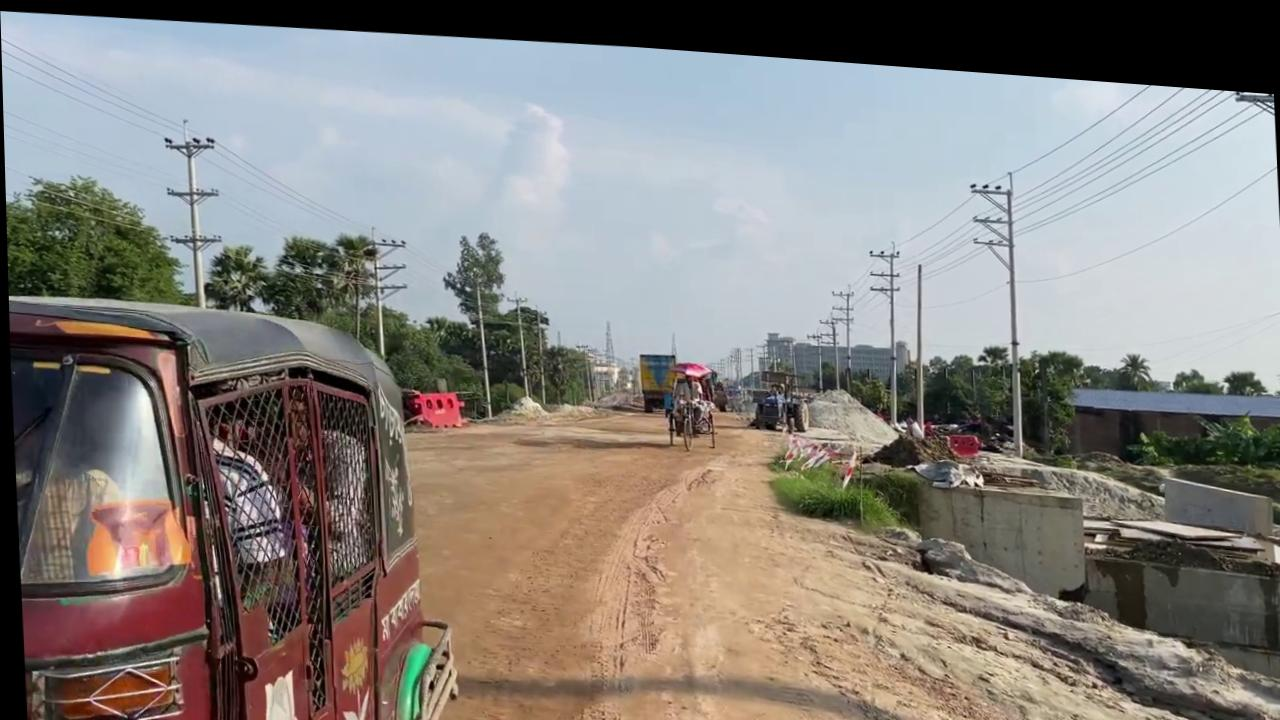Construction-barrier: (398, 379, 466, 424)
Muddy road: (403, 365, 1280, 720)
Pole: (161, 114, 222, 306), (908, 248, 927, 414), (473, 272, 490, 411)
Railroad-crossing: (642, 345, 740, 443)
Sidewalk: (79, 490, 189, 582)
Traffic-sign: (4, 165, 183, 304), (438, 220, 510, 413), (323, 224, 380, 339), (201, 236, 271, 310), (1116, 332, 1151, 374)
Tree: (7, 283, 458, 720), (747, 362, 808, 422), (636, 341, 677, 404)
Upstairs: (911, 461, 1084, 587)
